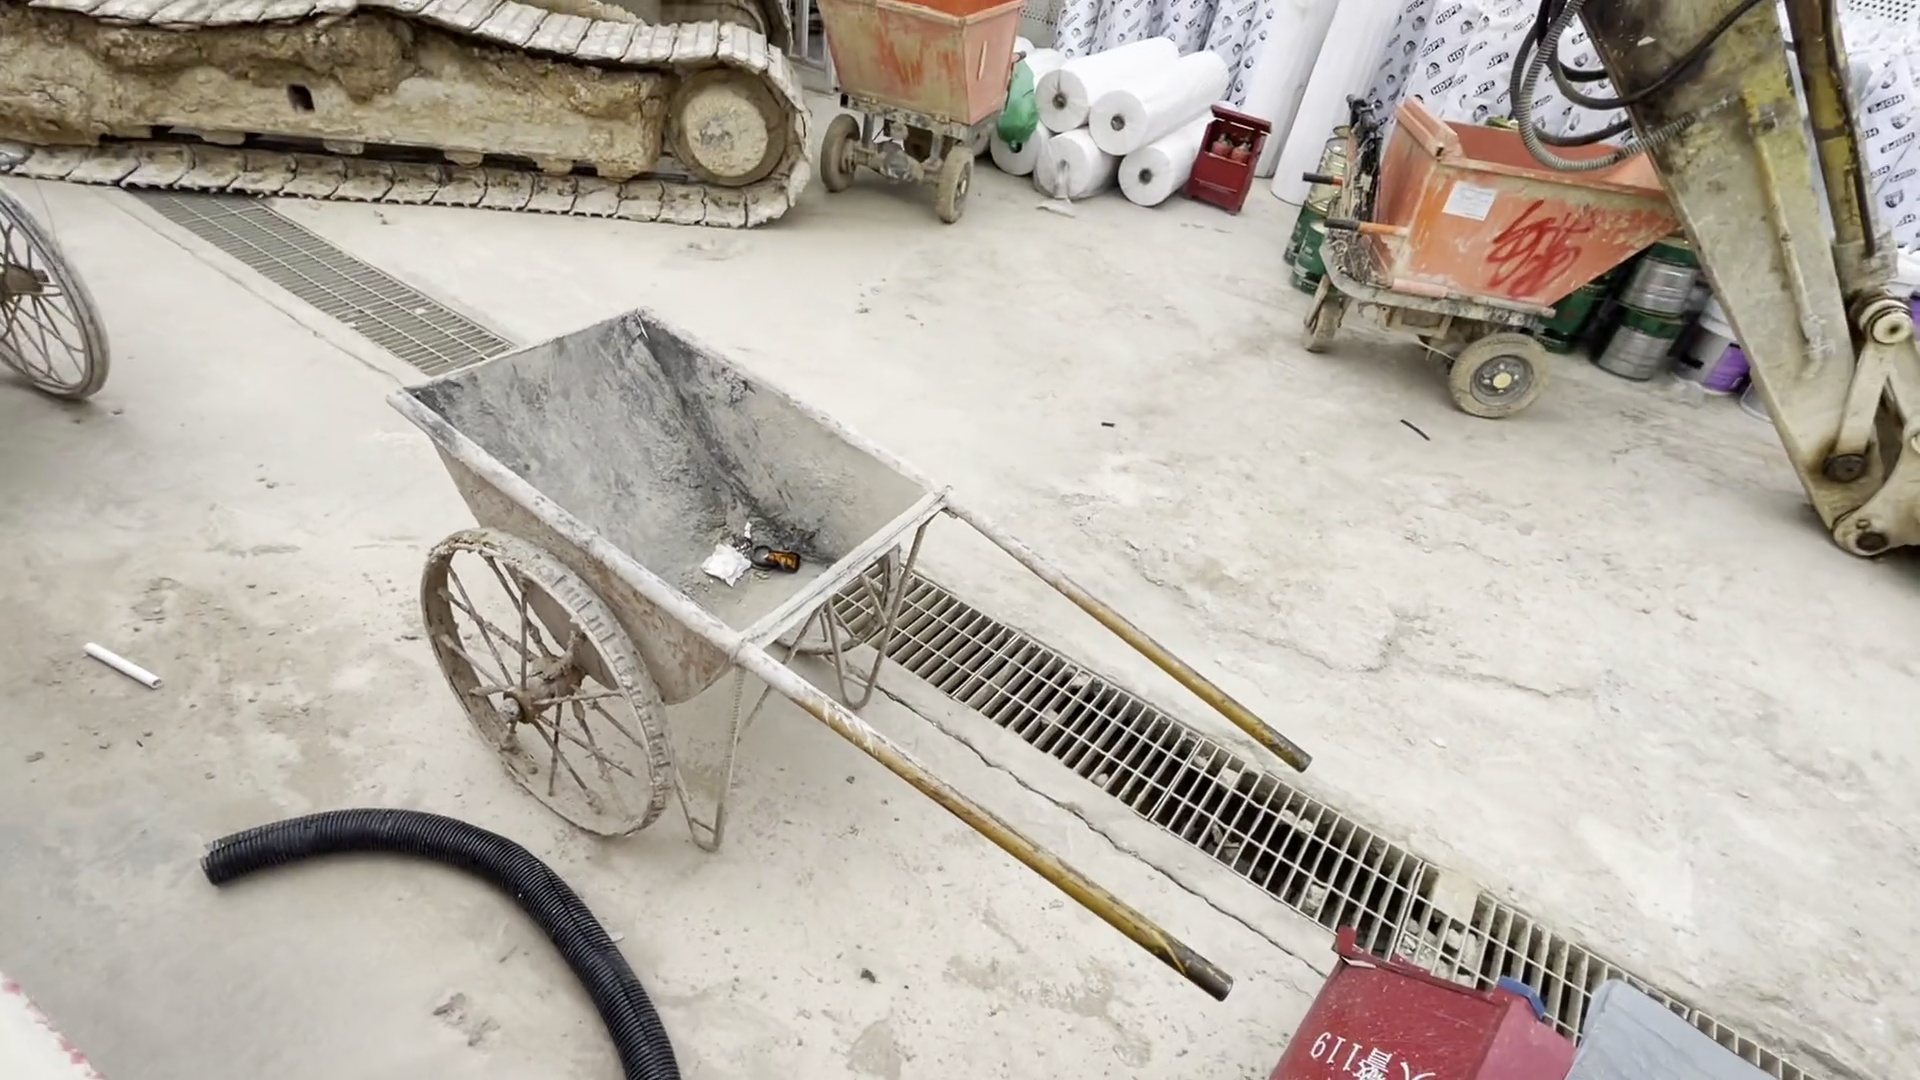handcart: (378, 295, 1336, 1029)
hopper: (1305, 113, 1680, 429), (808, 1, 1033, 240)
